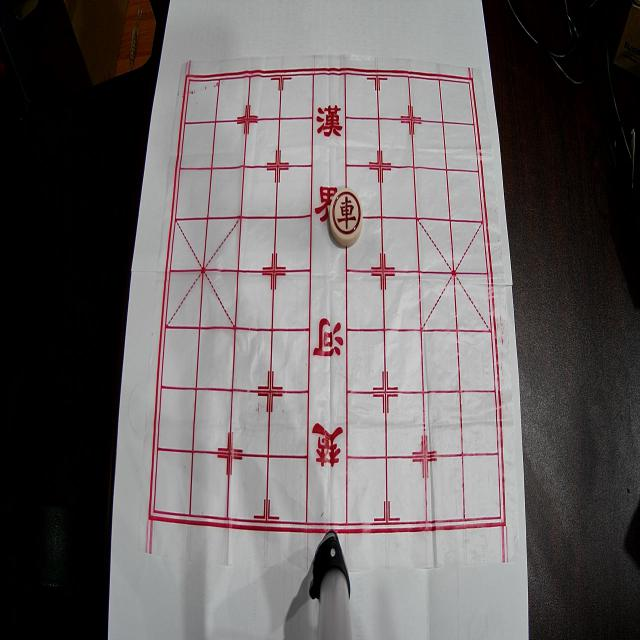red-chariot: (330, 188, 362, 246)
